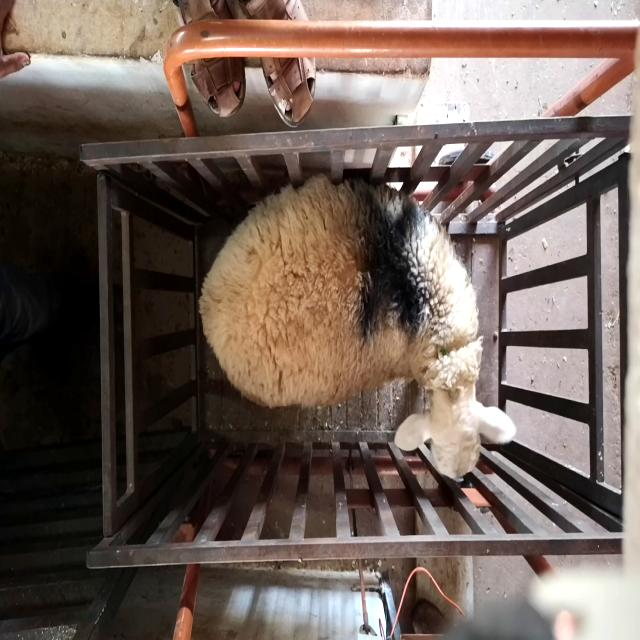sheep: (199, 175, 517, 480)
